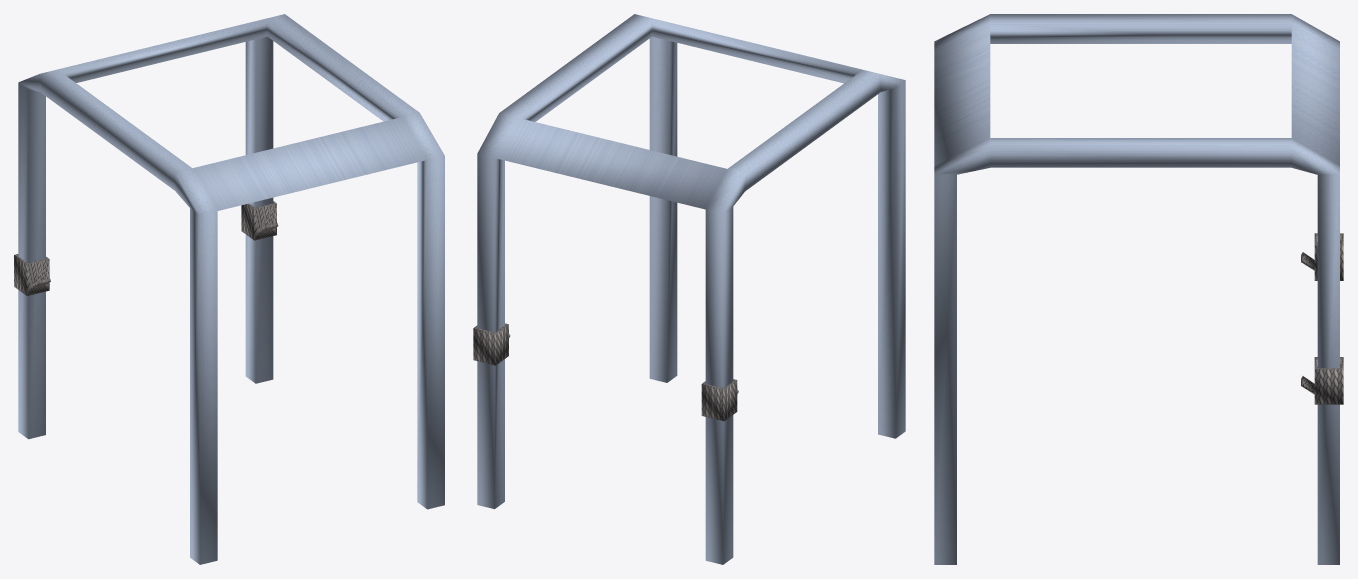
The model's file is bench_rack.obj.
The picture shows the model from 3 angles, left to right: view 1: azimuth 30°, elevation 25°; view 2: azimuth 150°, elevation 25°; view 3: azimuth 270°, elevation 25°; orthographic projection. The views are drawn at different scales.
Visible parts, largest first — view 1: Box001, Torus001, Torus002; view 2: Box001, Torus001, Torus002; view 3: Box001, Torus002, Torus001.
Part boxes in pixels (x1,y1,x2,y2): Box001: (18, 14, 444, 564); Torus001: (14, 254, 50, 295); Torus002: (241, 201, 278, 240); Box001: (477, 14, 905, 564); Torus001: (701, 379, 738, 421); Torus002: (473, 323, 510, 365); Box001: (934, 14, 1339, 564); Torus002: (1301, 357, 1343, 404); Torus001: (1301, 233, 1343, 280).
Bounding box in the file's own units: 143 × 204 × 182.
2 materials, 2 textured.
